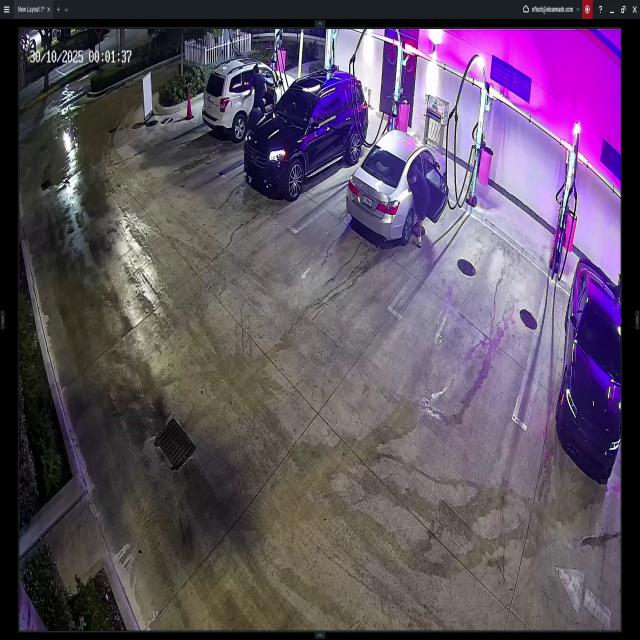Car: (246, 67, 366, 202), (558, 257, 622, 481), (347, 131, 447, 243), (203, 59, 295, 140)
